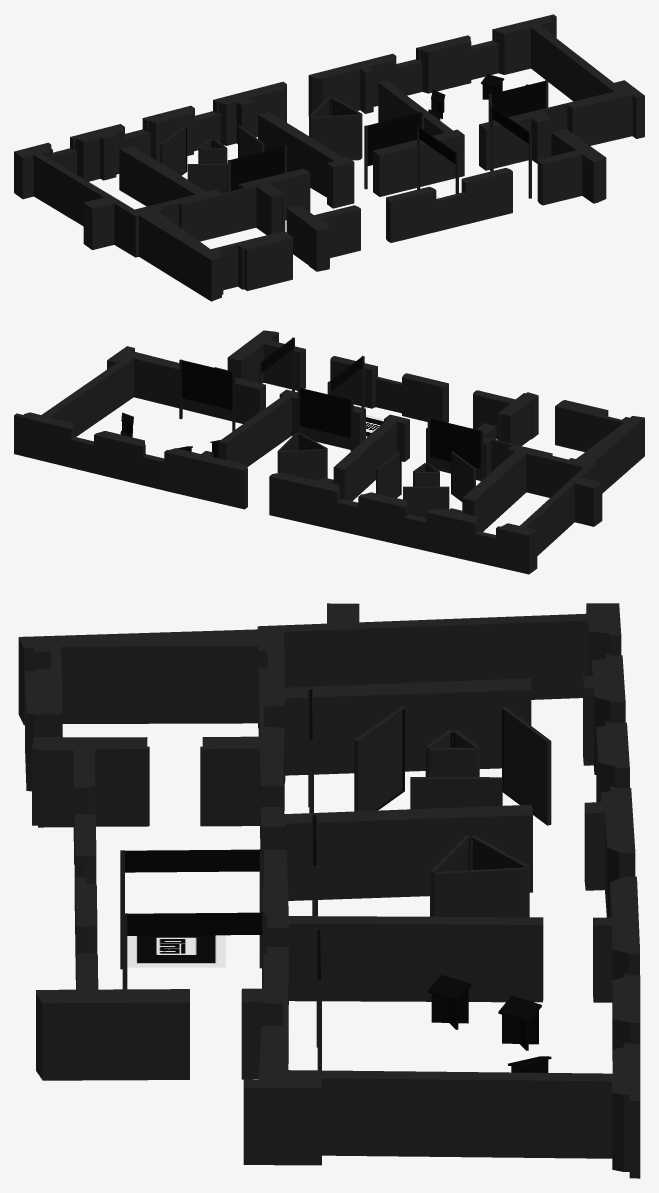
The model's file is RealeMutua_modelloAR-muri.obj.
The picture shows the model from 3 angles, top to bottom: view 1: azimuth 30°, elevation 25°; view 2: azimuth 150°, elevation 25°; view 3: azimuth 270°, elevation 25°; orthographic projection. The views are drawn at different scales.
Size of the model in its own units: 510 by 58 by 269.
